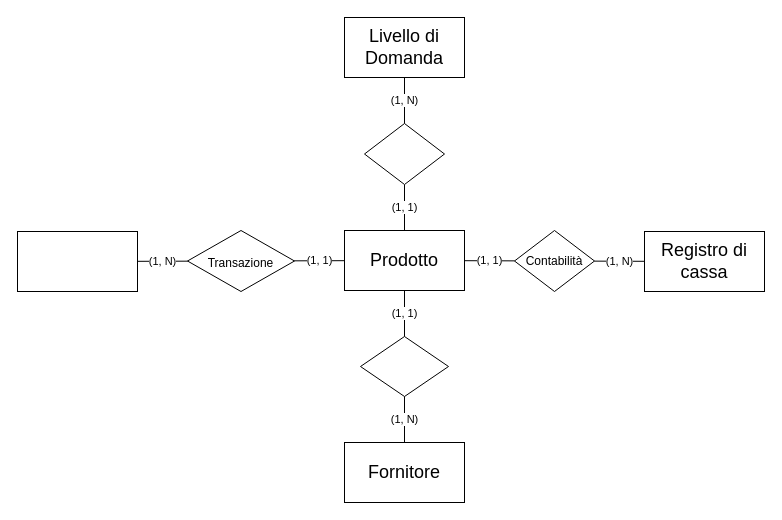
The diagram is 782 pixels wide and 520 high, and some of its shapes have lost their labels. Here are the shapes that lost their labels. From the top down, the box of each, then its label:
(364, 122, 444, 184): Richiesta
(16, 230, 138, 292): Cliente
(360, 336, 448, 396): Ordine online
